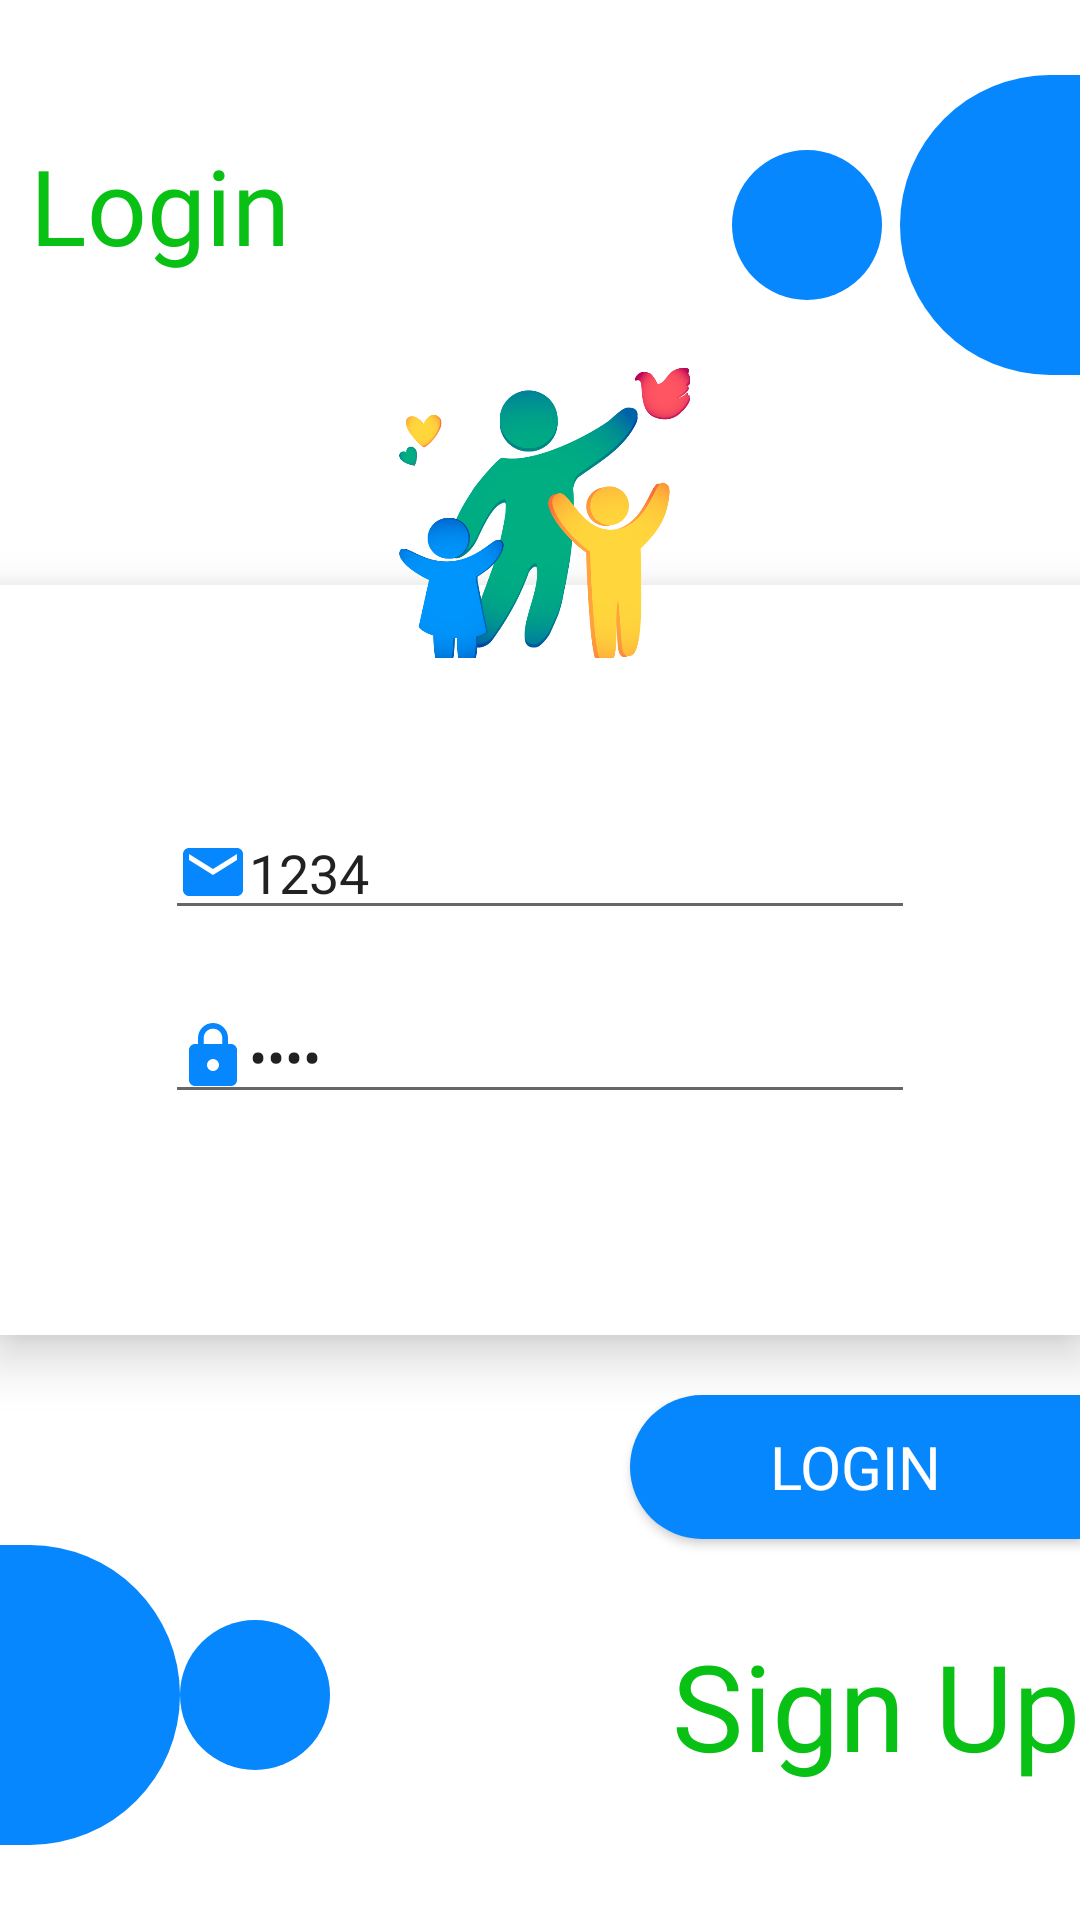

Point at icon controls on the screen. Image size 1080x1920, points as point (x, y).
parent: point (544, 513)
